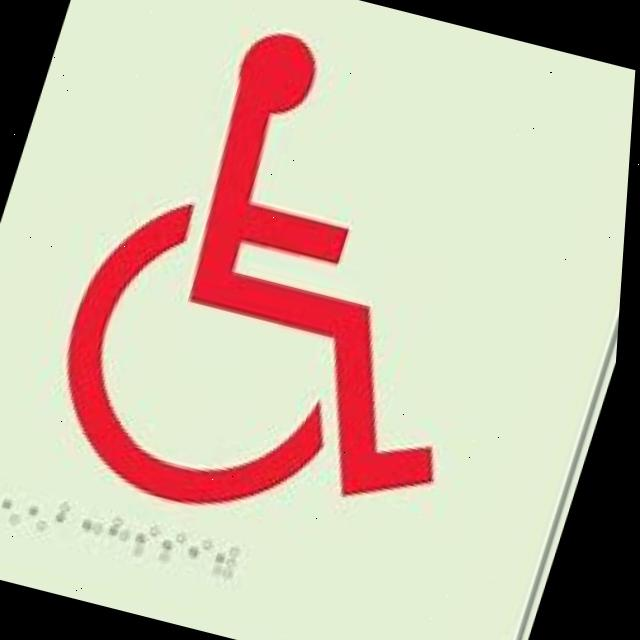symbol_of_access: (25, 0, 564, 565)
